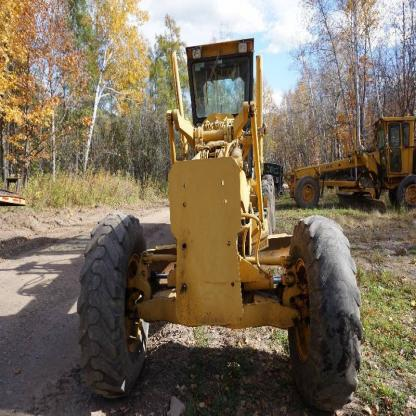bull_dozer/loader/grader: (66, 24, 369, 414)
